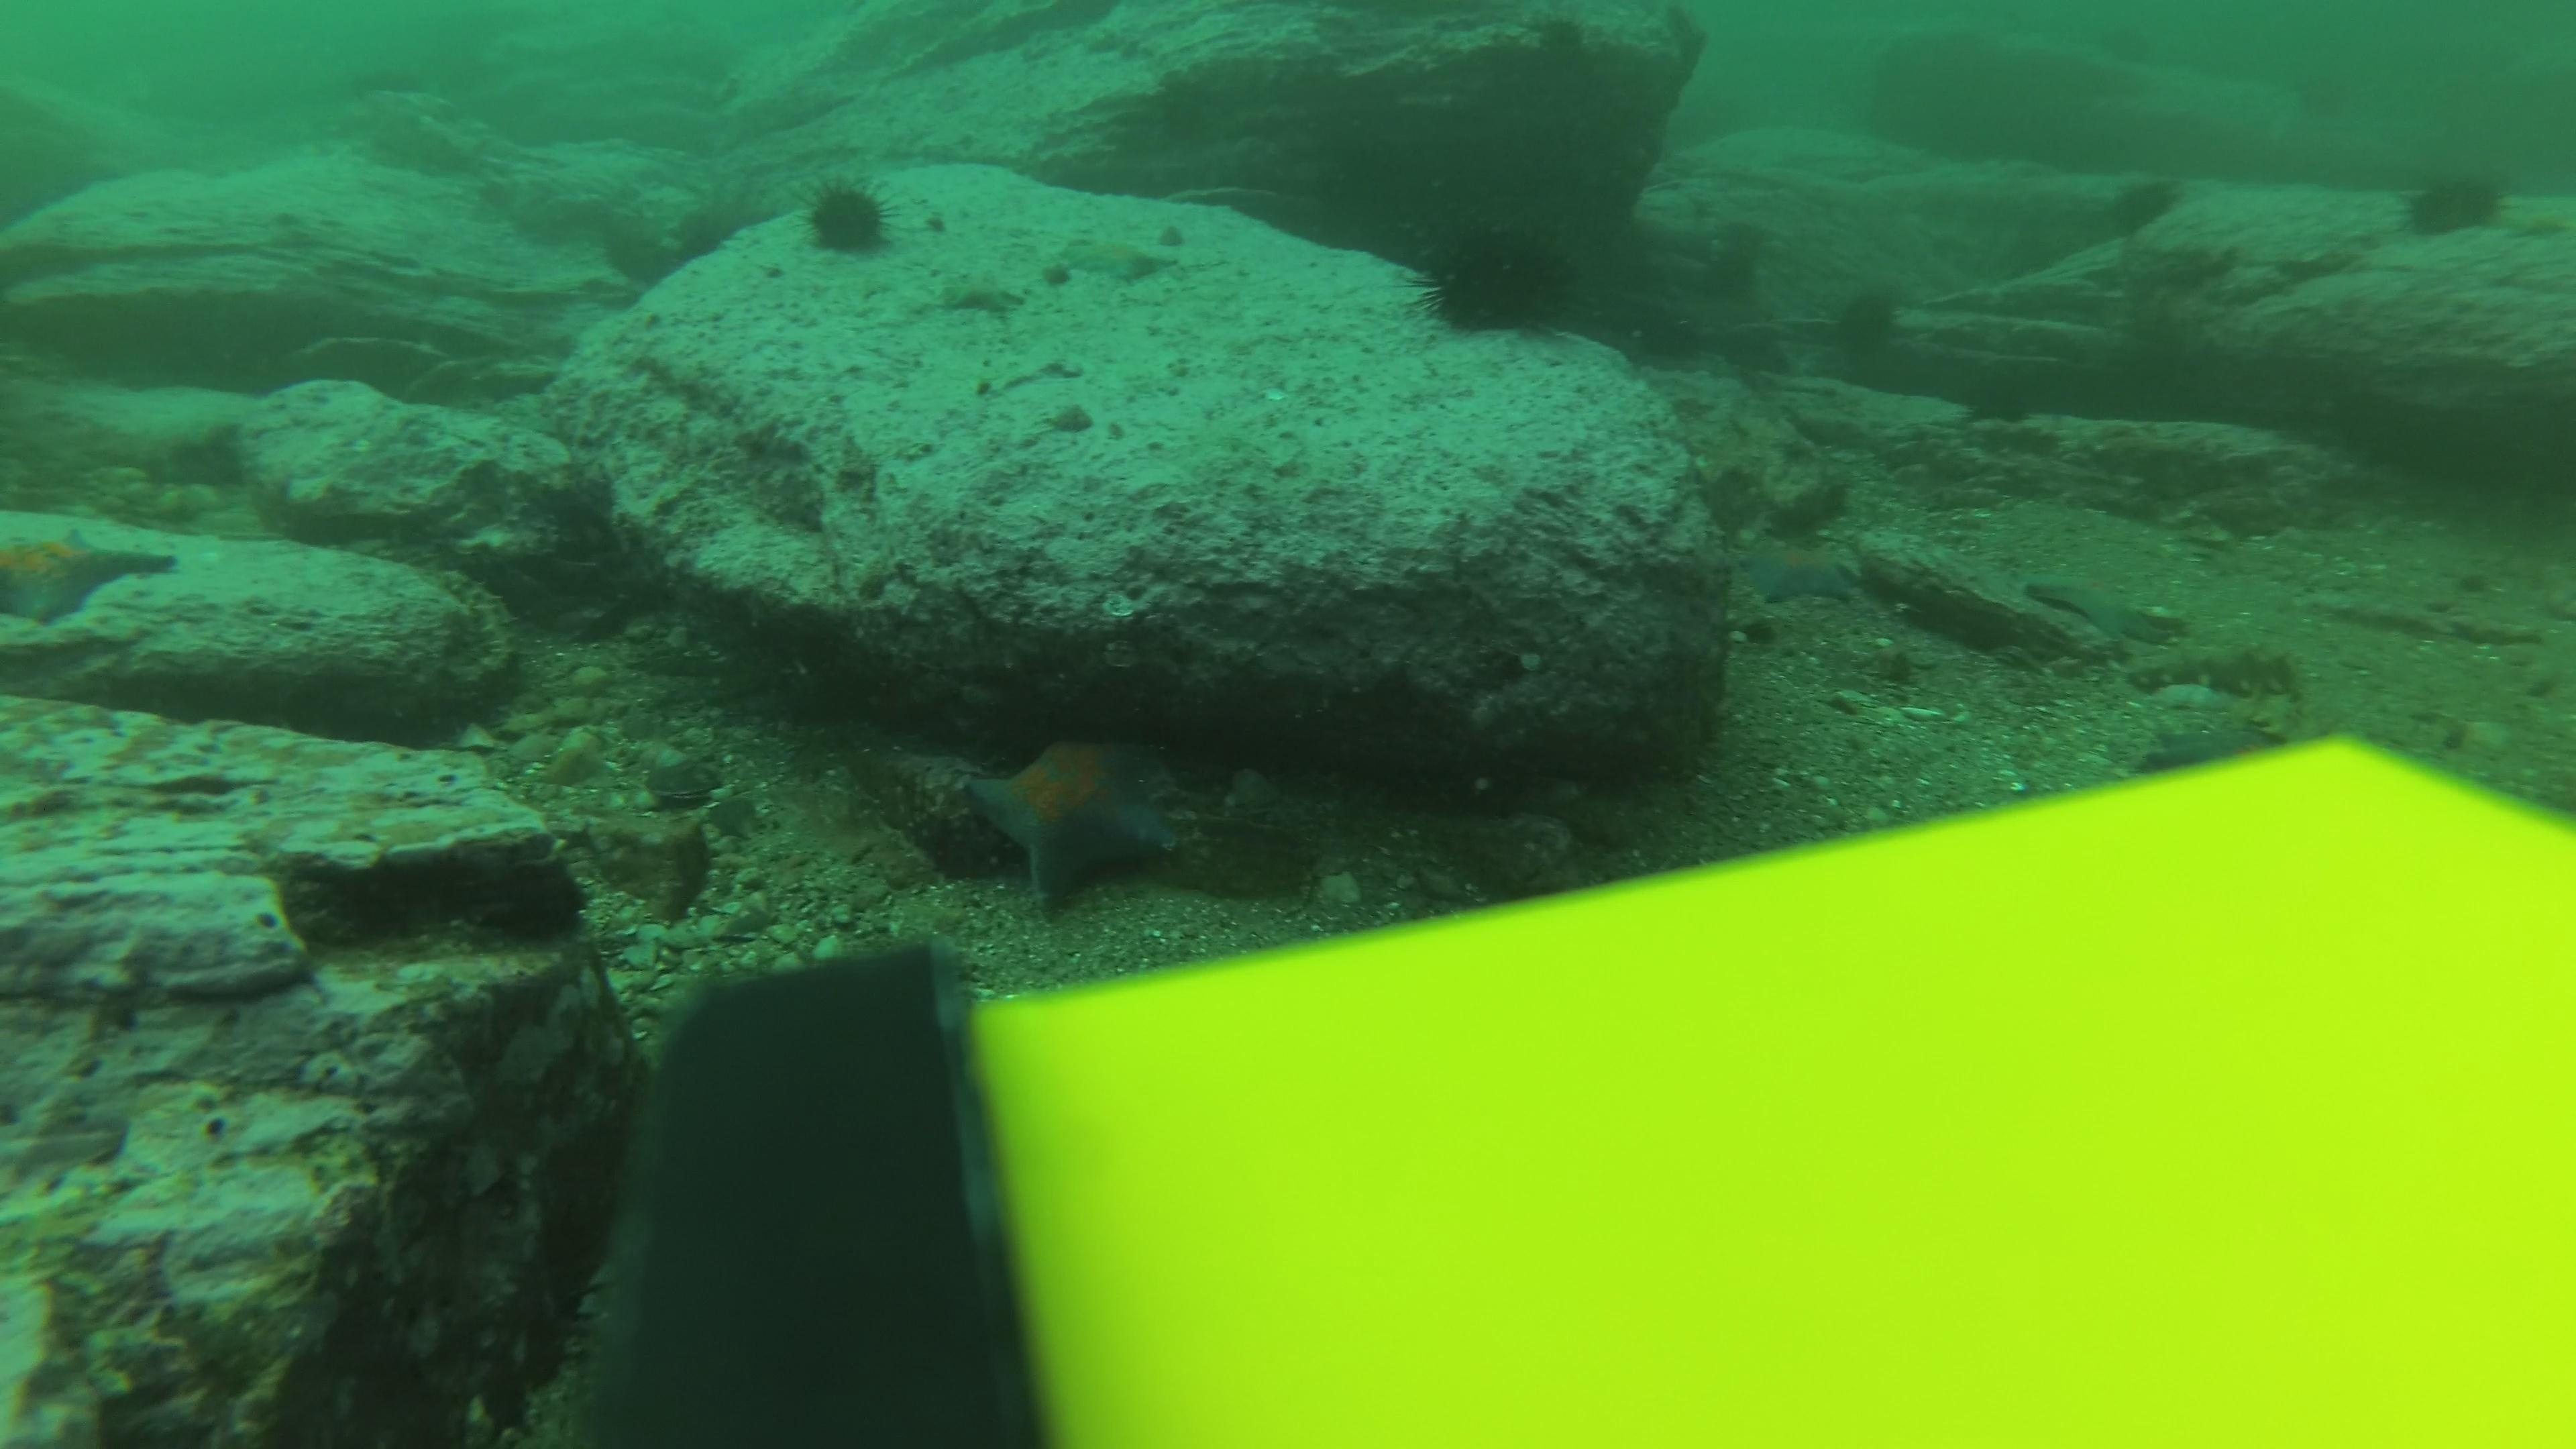echinus: (1408, 212, 1582, 345), (2394, 156, 2516, 246), (791, 172, 904, 267), (1815, 280, 1914, 375), (2088, 149, 2185, 244), (2284, 64, 2378, 127), (2079, 16, 2173, 78)
holothurian: (2123, 626, 2293, 694), (2222, 685, 2348, 754)
starfish: (955, 725, 1191, 911), (0, 508, 182, 633), (2015, 563, 2189, 649), (1727, 531, 1868, 610), (1049, 226, 1185, 288), (932, 269, 1031, 324)
